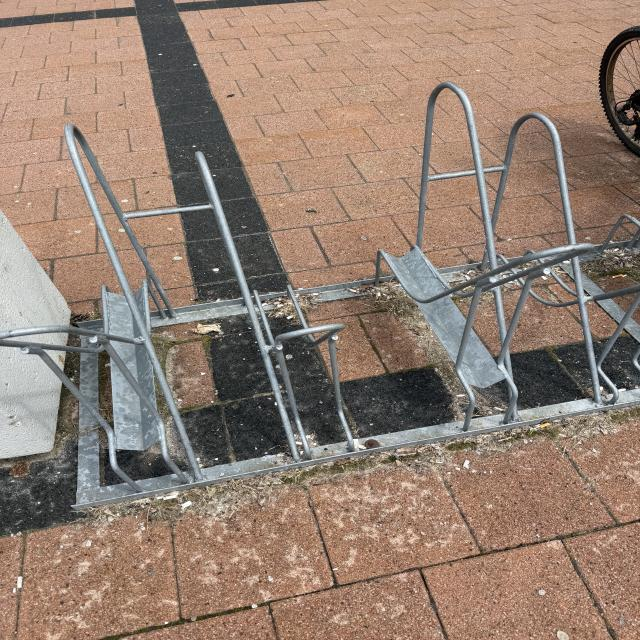Bicycle Rack: (4, 80, 640, 514)
